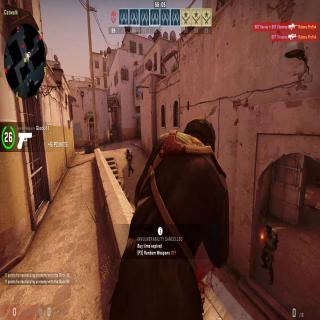CT-Body: (262, 220, 277, 278), (126, 148, 132, 172), (110, 130, 114, 143)
CT-Head: (265, 223, 272, 232), (126, 148, 130, 152), (111, 130, 112, 133)
